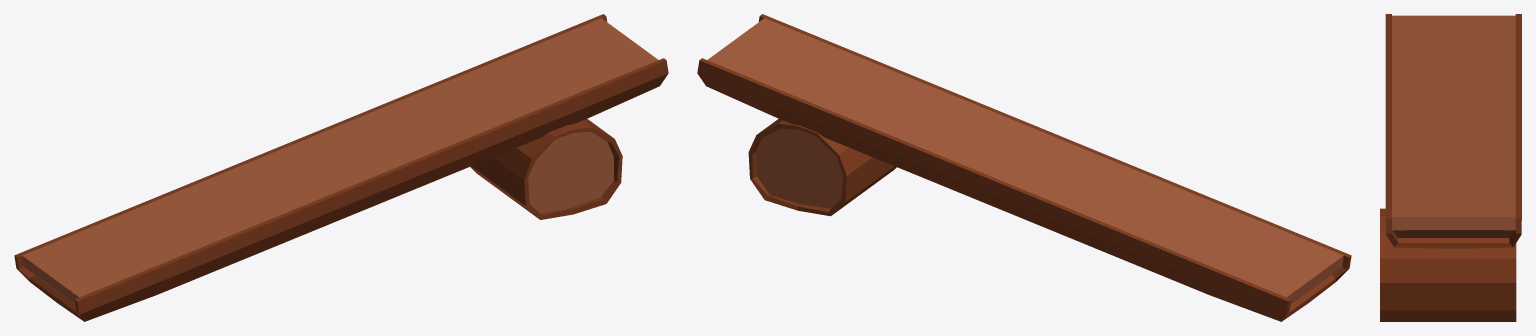
The model's file is Bench_Broken_V01.fbx.
3 renders of one model, left to right at view 1: azimuth 30°, elevation 25°; view 2: azimuth 150°, elevation 25°; view 3: azimuth 270°, elevation 25°, orthographic. The views are drawn at different scales.
Parts seen in each view (by area): view 1: Bench_Broken_V01; view 2: Bench_Broken_V01; view 3: Bench_Broken_V01.
Boxes of the visible parts, <box> form: Bench_Broken_V01: <box>14,14,668,321</box>; Bench_Broken_V01: <box>697,14,1351,321</box>; Bench_Broken_V01: <box>1380,14,1521,321</box>.
Size of the model in its own units: 250 by 52.09 by 48.11.
